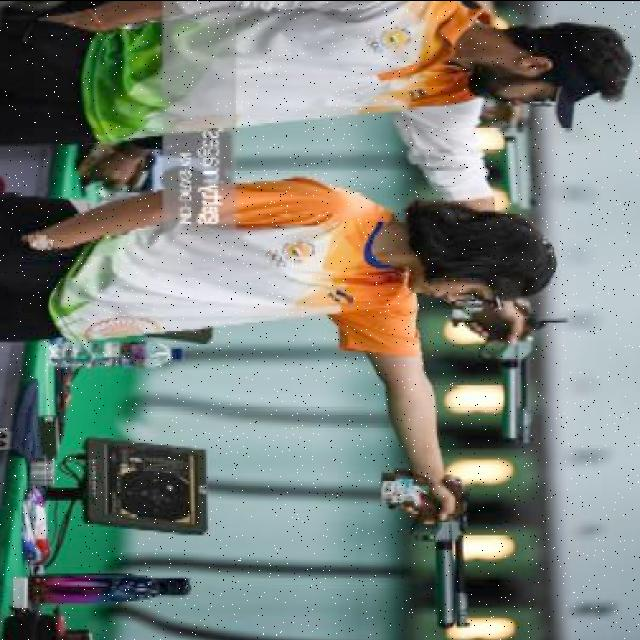Guns: (380, 469, 469, 630), (449, 290, 534, 442)
